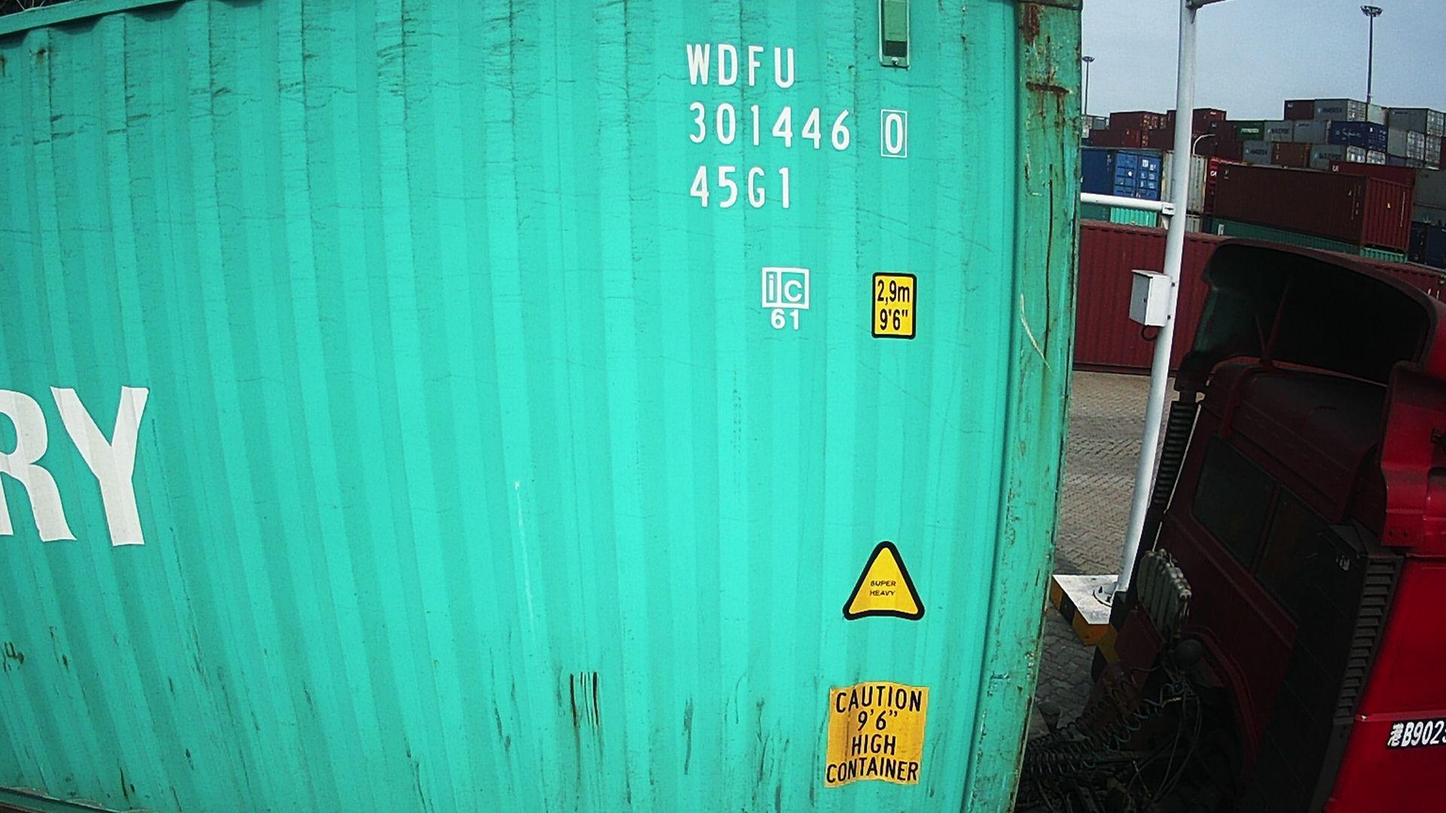container-numbers: (685, 97, 911, 159), (682, 38, 801, 90), (686, 161, 796, 215)
